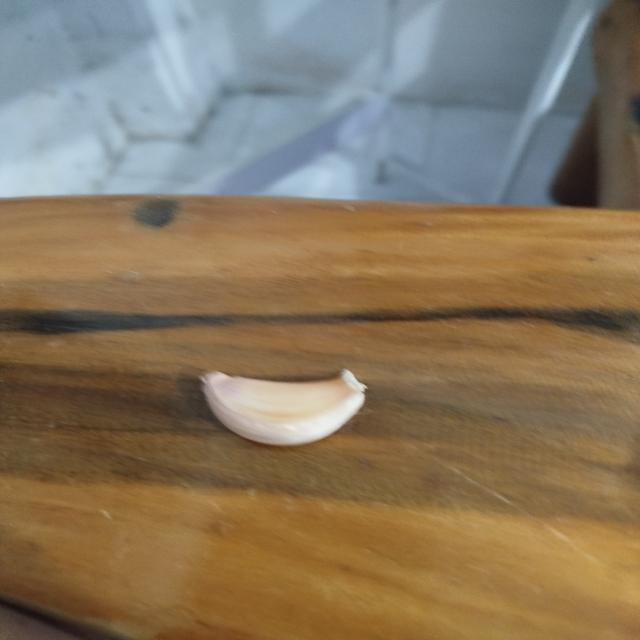garlic: (199, 368, 368, 447)
